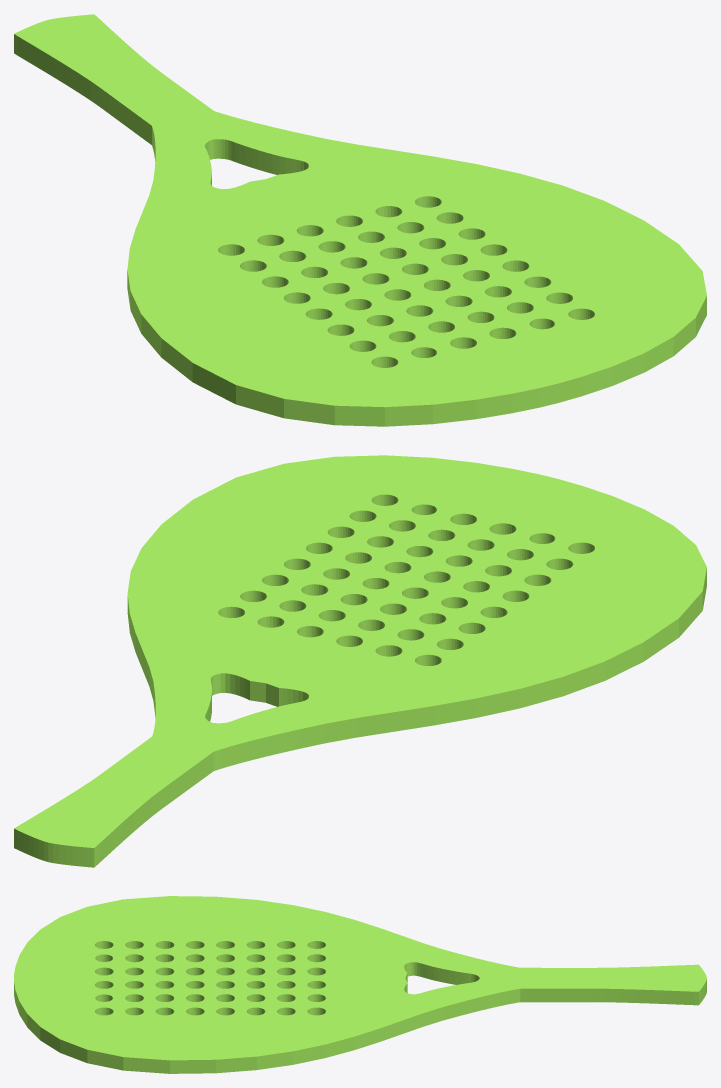
3 renders of one model, top to bottom at view 1: azimuth 30°, elevation 25°; view 2: azimuth 150°, elevation 25°; view 3: azimuth 270°, elevation 25°, orthographic. The views are drawn at different scales.
Visible parts, largest first — view 1: bad (×2); view 2: bad (×2); view 3: bad (×2).
Boxes of the visible parts, x1=… form: bad (×2): x1=14, y1=14, x2=706, y2=426; bad (×2): x1=14, y1=455, x2=706, y2=867; bad (×2): x1=14, y1=896, x2=706, y2=1073.
Size of the model in its own units: 103 by 183 by 3.94.
